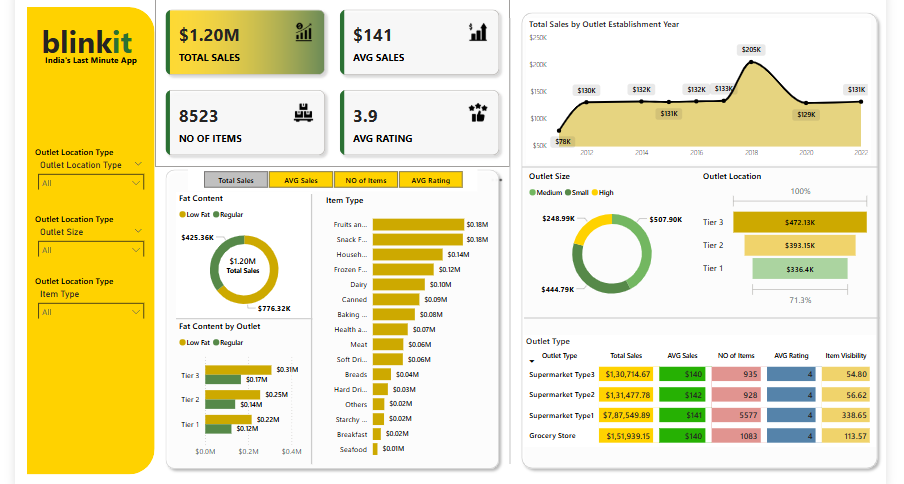

The page's visual inventory and layout, read from the dashboard file:
{"tool":"powerbi","page":{"name":"Page 1","canvas":[1400,800],"ordinal":0},"visuals":[{"type":"shape","box":[19.6,25.4,205.3,750.8],"z":0},{"type":"textbox","box":[19.6,43,205.3,103.6],"z":1000},{"type":"textbox","box":[27.4,95.8,189.7,33.2],"z":2000},{"type":"cardVisual","fields":{"Data":["BlinkIT Grocery Data.Total Sales","BlinkIT Grocery Data.AVG Sales","BlinkIT Grocery Data.NO of Items","BlinkIT Grocery Data.AVG Rating"]},"box":[224.9,12.9,570.3,269.9],"z":3000},{"type":"shape","box":[232.7,277.7,553.4,498.6],"z":4000},{"type":"donutChart","title":"Fat Content","fields":{"Y":["BlinkIT Grocery Data.Total Sales"],"Category":["BlinkIT Grocery Data.Item Fat Content"]},"box":[258.1,322.6,219,205.3],"z":5000},{"type":"slicer","fields":{"Values":["Metrics.Metrics"]},"box":[277.7,283.5,465.4,39.1],"z":6000},{"type":"cardVisual","fields":{"Data":["BlinkIT Grocery Data.Total Sales"]},"box":[316.8,400.8,99.7,78.2],"z":7000},{"type":"clusteredBarChart","title":"Fat Content by Outlet ","fields":{"Y":["BlinkIT Grocery Data.Total Sales"],"Category":["BlinkIT Grocery Data.Outlet Location Type"],"Series":["BlinkIT Grocery Data.Item Fat Content"]},"box":[258.1,527.9,219,228.8],"z":8000},{"type":"shape","box":[258.1,498.6,219,56.7],"z":9000},{"type":"shape","box":[457.5,326.5,37.2,434.1],"z":10000},{"type":"clusteredBarChart","title":"Item Type ","fields":{"Y":["BlinkIT Grocery Data.Total Sales"],"Category":["BlinkIT Grocery Data.Item Type"]},"box":[494.7,326.5,269.8,434.1],"z":11000},{"type":"shape","box":[804.8,25.7,589.6,750.2],"z":12000},{"type":"lineChart","fields":{"Category":["BlinkIT Grocery Data.Outlet Establishment Year"],"Y":["BlinkIT Grocery Data.Total Sales"]},"box":[820.9,43.4,554.2,234.5],"z":13000},{"type":"shape","box":[814.5,253.8,571.9,57.8],"z":14000},{"type":"donutChart","title":"Outlet Size ","fields":{"Y":["BlinkIT Grocery Data.Total Sales"],"Category":["BlinkIT Grocery Data.Outlet Size"]},"box":[820.9,287.6,276.3,224.9],"z":15000},{"type":"funnel","title":"Outlet Location","fields":{"Category":["BlinkIT Grocery Data.Outlet Location Type"],"Y":["Sum(BlinkIT Grocery Data.Sales)"]},"box":[1100.4,287.6,277.9,224.9],"z":16000},{"type":"shape","box":[817.7,496.4,571.9,57.8],"z":17000},{"type":"shape","box":[772.7,43.4,45,716.5],"z":17001},{"type":"pivotTable","title":"Outlet Type","fields":{"Rows":["BlinkIT Grocery Data.Outlet Type"],"Values":["BlinkIT Grocery Data.Total Sales","BlinkIT Grocery Data.AVG Sales","BlinkIT Grocery Data.NO of Items","BlinkIT Grocery Data.AVG Rating","Sum(BlinkIT Grocery Data.Item Visibility)"]},"box":[816.1,552.6,567.1,179.9],"z":17002},{"type":"slicer","title":"Outlet Location Type","fields":{"Values":["BlinkIT Grocery Data.Outlet Location Type"]},"box":[27.4,248.3,189.7,70.4],"z":17003},{"type":"slicer","title":"Outlet Location Type","fields":{"Values":["BlinkIT Grocery Data.Outlet Size"]},"box":[27.4,355.9,189.7,70.4],"z":17004},{"type":"slicer","title":"Outlet Location Type","fields":{"Values":["BlinkIT Grocery Data.Item Type"]},"box":[27.4,455.6,189.7,70.4],"z":17005}]}

Visuals, with their boxes on the page's 1400x800 design canvas (x1, y1, x2, y2). These are canvas units, not pixel positions in the 904x484 screenshot, which may show the page scaled, cropped or inside an application window:
shape: 20,25,225,776
textbox: 20,43,225,147
textbox: 27,96,217,129
cardVisual - BlinkIT Grocery Data.Total Sales x BlinkIT Grocery Data.AVG Sales: 225,13,795,283
shape: 233,278,786,776
"Fat Content" donutChart: 258,323,477,528
slicer - Metrics.Metrics: 278,284,743,323
cardVisual - BlinkIT Grocery Data.Total Sales: 317,401,416,479
"Fat Content by Outlet " clusteredBarChart: 258,528,477,757
shape: 258,499,477,555
shape: 458,326,495,761
"Item Type " clusteredBarChart: 495,326,764,761
shape: 805,26,1394,776
lineChart - BlinkIT Grocery Data.Outlet Establishment Year x BlinkIT Grocery Data.Total Sales: 821,43,1375,278
shape: 814,254,1386,312
"Outlet Size " donutChart: 821,288,1097,512
"Outlet Location" funnel: 1100,288,1378,512
shape: 818,496,1390,554
shape: 773,43,818,760
"Outlet Type" pivotTable: 816,553,1383,732
"Outlet Location Type" slicer: 27,248,217,319
"Outlet Location Type" slicer: 27,356,217,426
"Outlet Location Type" slicer: 27,456,217,526
